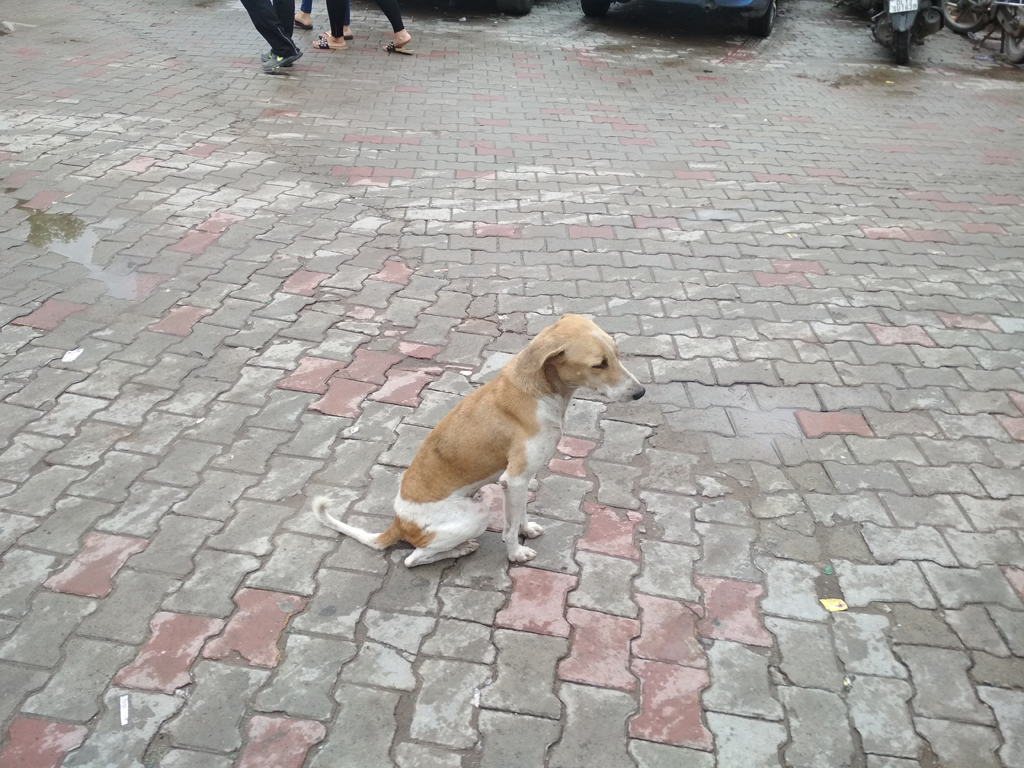dog: (314, 313, 647, 567)
